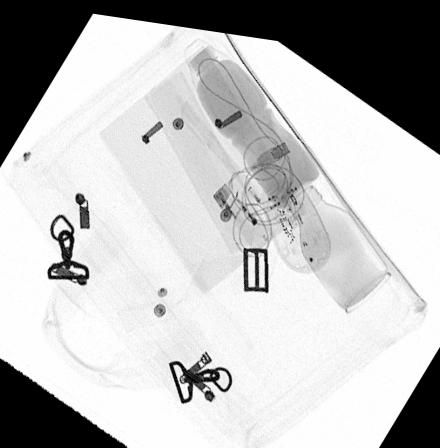Lighter: (212, 172, 274, 244)
